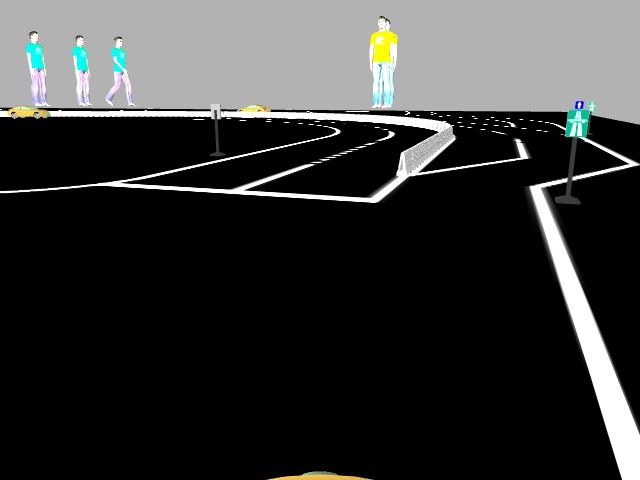HighwayEntrance: (566, 107, 586, 137)
